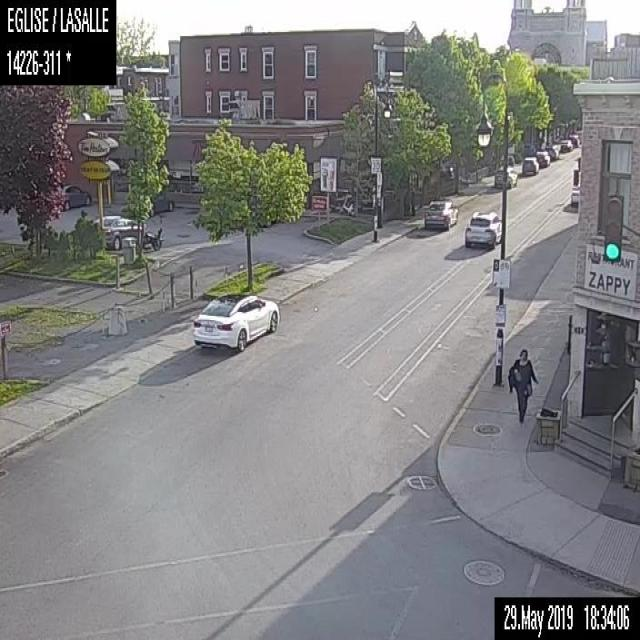pedestrian: (507, 347, 538, 425)
vehicle: (189, 289, 280, 351), (91, 214, 145, 249), (464, 208, 501, 248), (423, 198, 458, 230), (56, 182, 90, 210), (146, 193, 174, 217), (136, 227, 162, 251), (493, 165, 519, 188), (521, 154, 538, 175), (534, 147, 548, 166), (557, 137, 571, 153), (571, 185, 579, 207), (547, 145, 559, 159)
